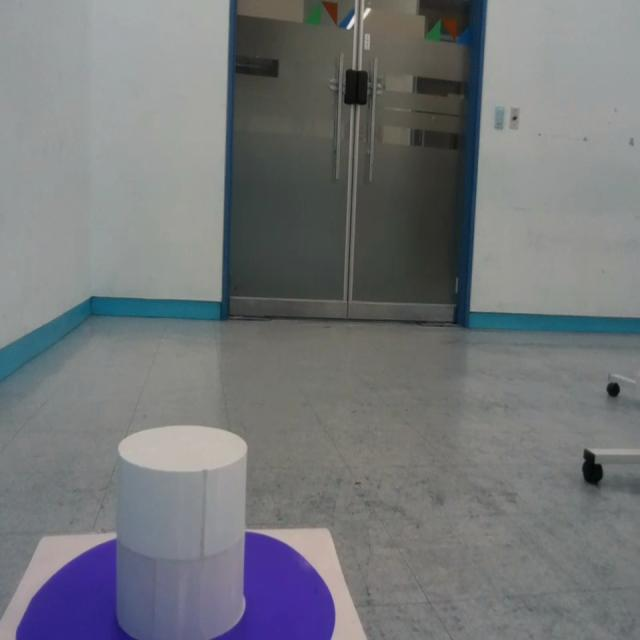cylinder: (114, 424, 249, 638)
